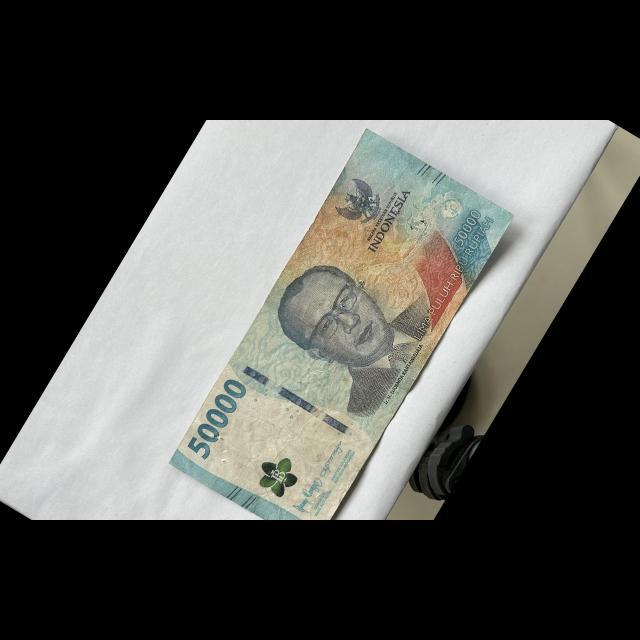Palsu-50k: (161, 121, 519, 555)
Tinta-Palsu-50k: (250, 446, 307, 503)
